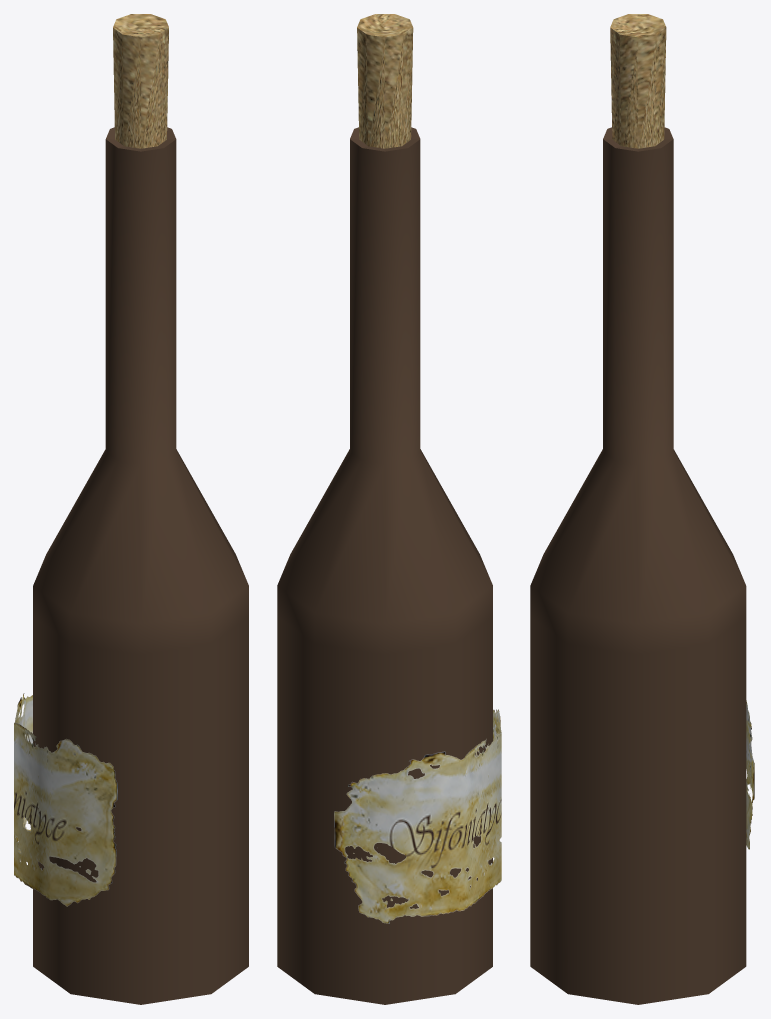
File: bottle1.FBX
The picture shows the model from 3 angles, left to right: view 1: azimuth 30°, elevation 25°; view 2: azimuth 150°, elevation 25°; view 3: azimuth 270°, elevation 25°; orthographic projection.
Visible parts, largest first — view 1: bottle1, Object002; view 2: bottle1, Object002; view 3: bottle1, Object002.
Part boxes in pixels (x1,y1,x2,y2): bottle1: (14, 127, 248, 1004); Object002: (113, 14, 168, 148); bottle1: (277, 127, 501, 1004); Object002: (357, 14, 413, 148); bottle1: (530, 127, 754, 1004); Object002: (610, 14, 666, 148).
Bounding box in the file's own units: 9.45 × 42.6 × 9.35.
